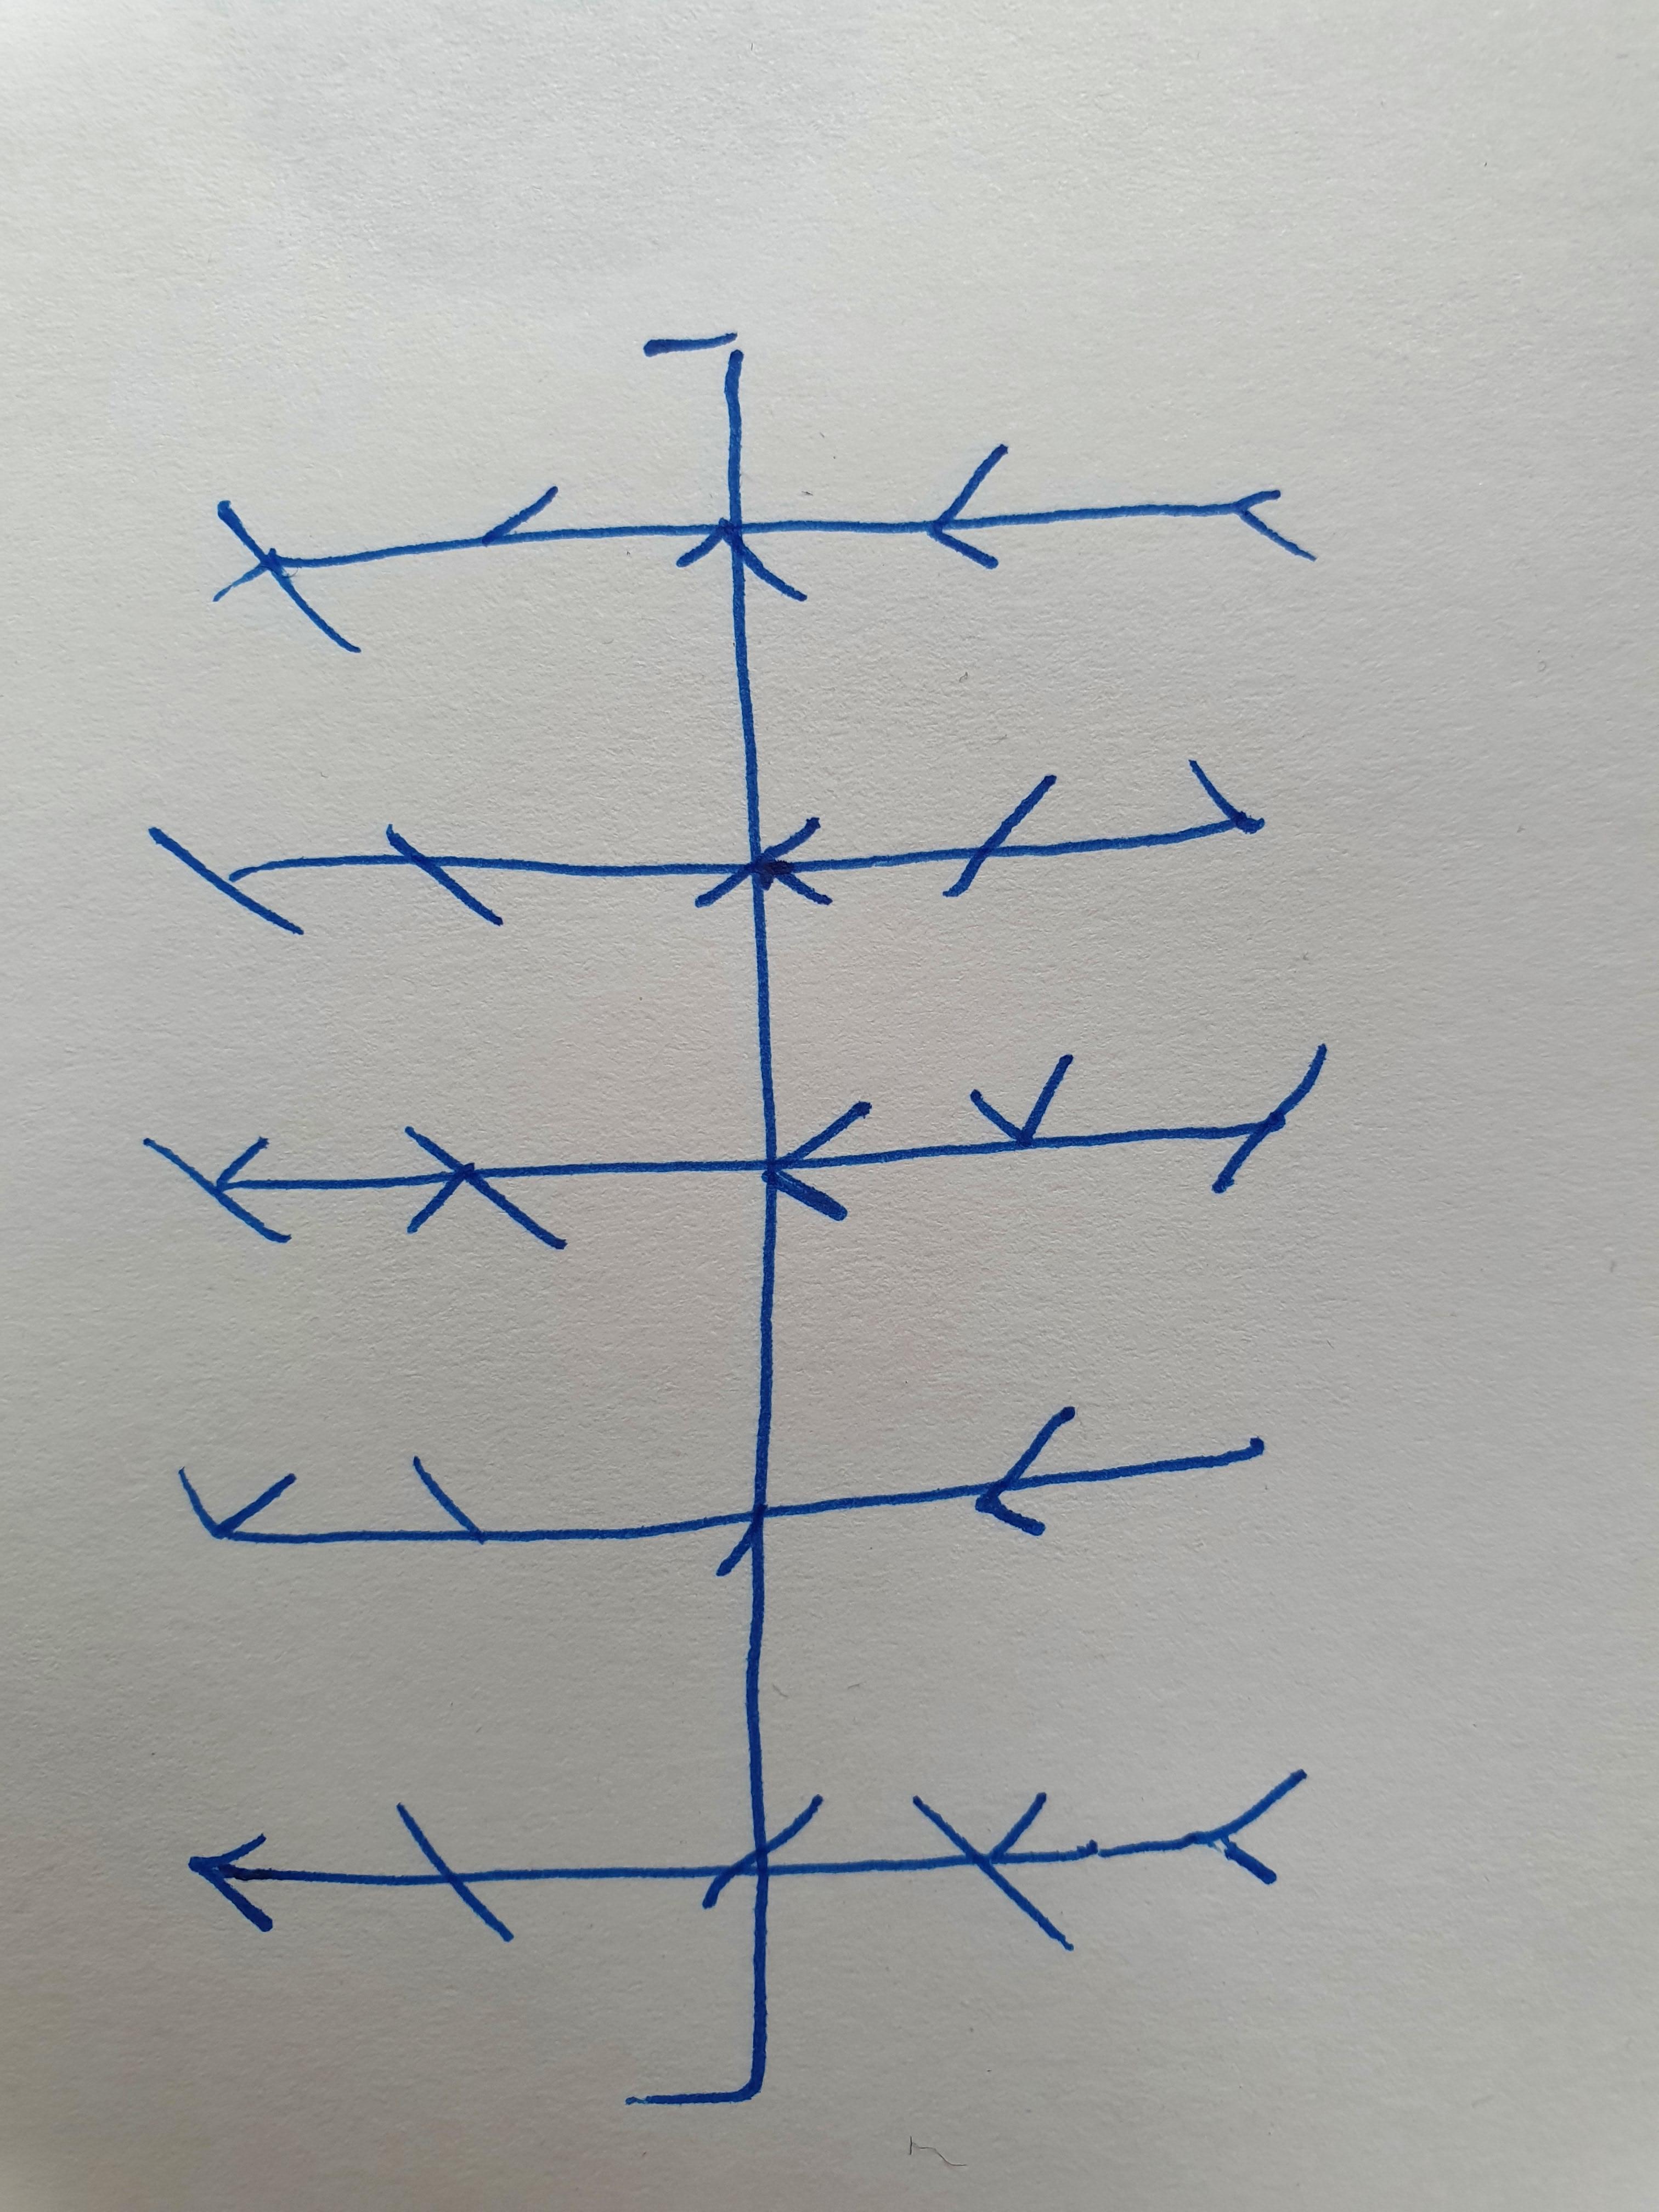Bar: (138, 1040, 1330, 1247), (213, 444, 1317, 658), (185, 1764, 1309, 1949), (146, 756, 1267, 937), (179, 1406, 1267, 1576)
Barcode: (138, 324, 1330, 2107)
End: (640, 324, 746, 509)
Start: (631, 1909, 767, 2107)
